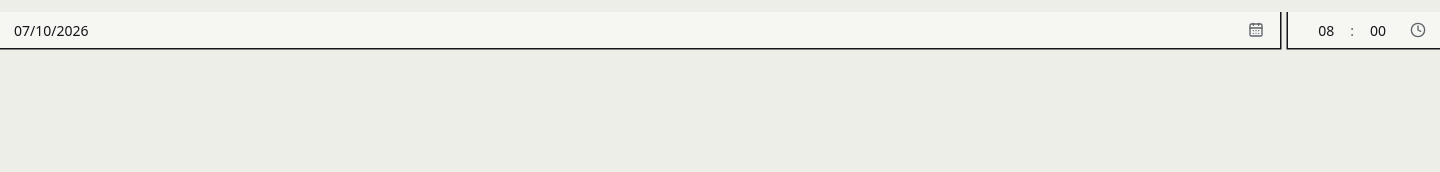
Scenario: DateTimePicker › refuses a time before the minimum on the boundary day, under both halves
Replace the text in the field named "Deploy at Date" with "06/10/2026". click: (624, 30)
box: top-left (14, 12), bottom-right (1234, 48)
Then press Enter
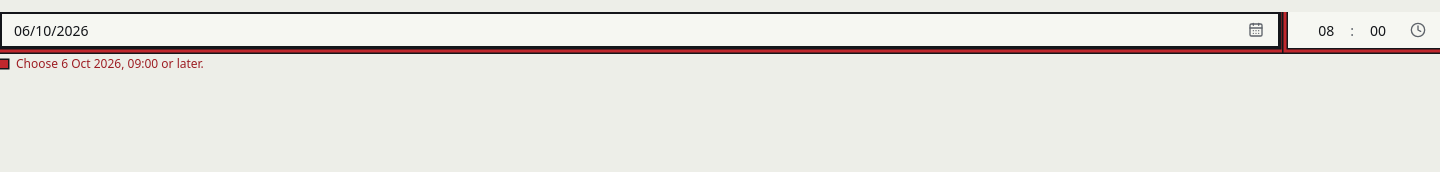
Check: the message reads "Choose 6 Oct 2026, 09:00 or later.", box top-left (16, 55), bottom-right (204, 72)
